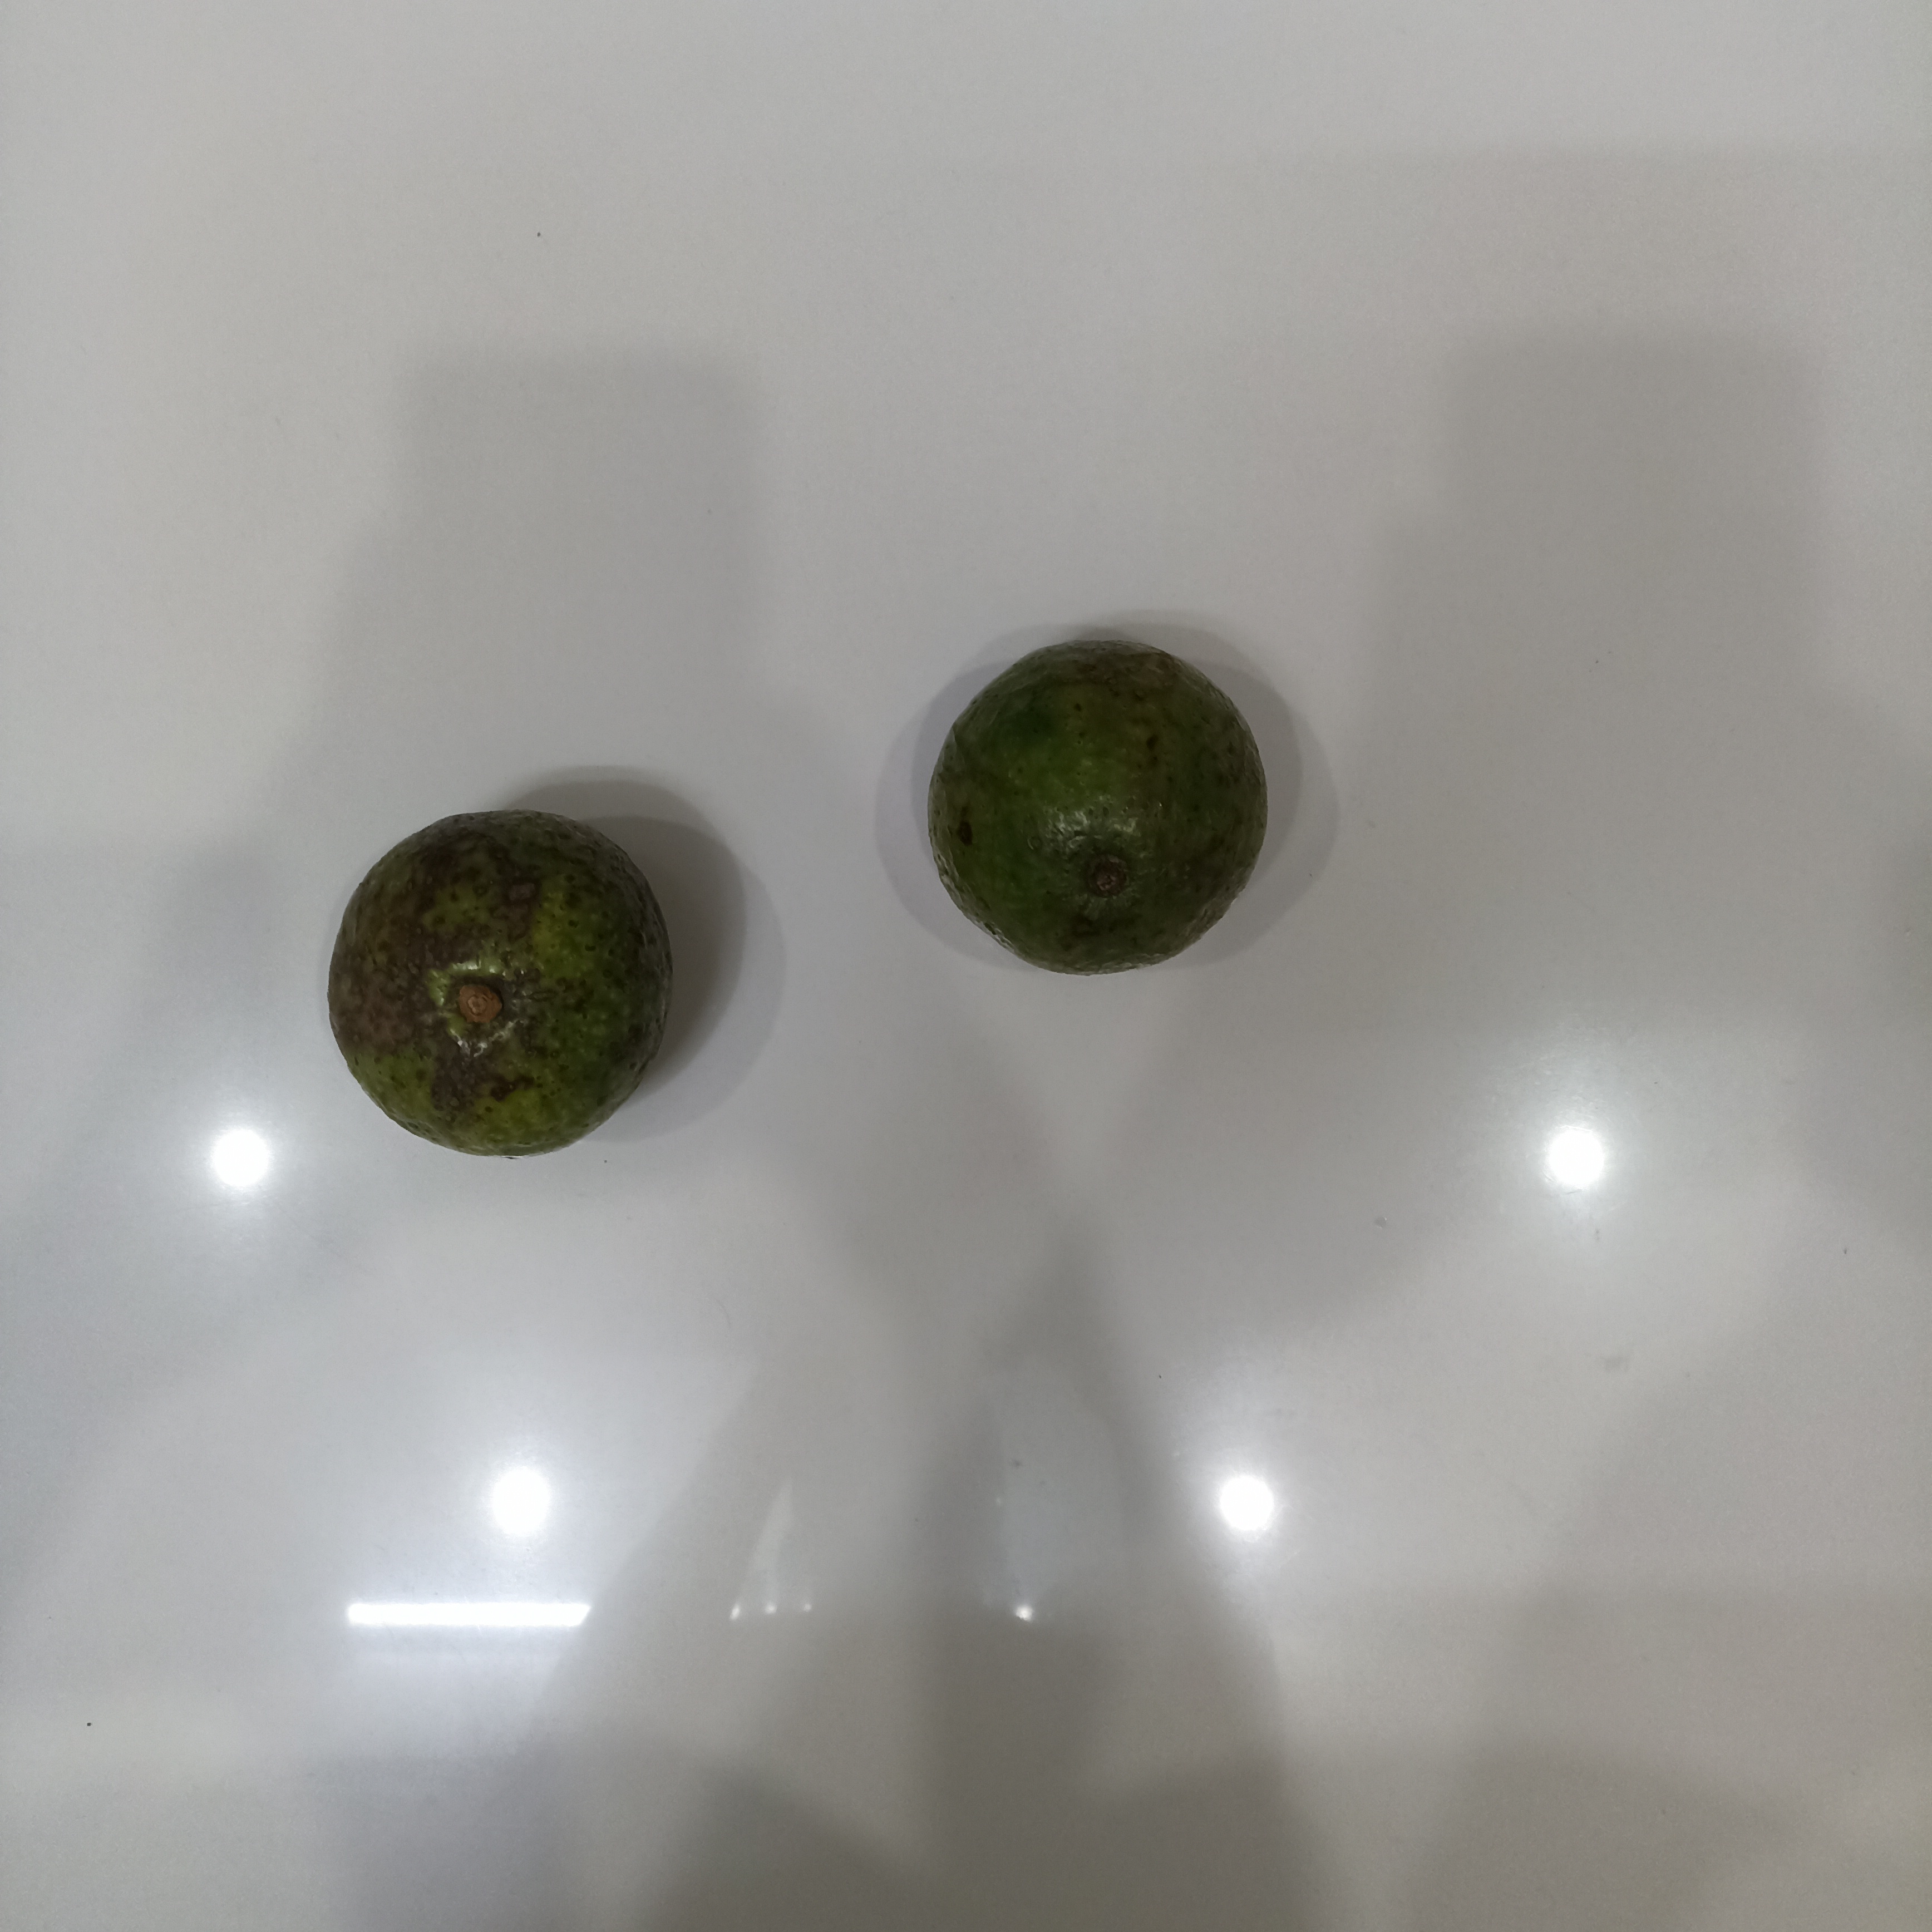Bo: (324, 810, 674, 1164), (920, 635, 1272, 980)
